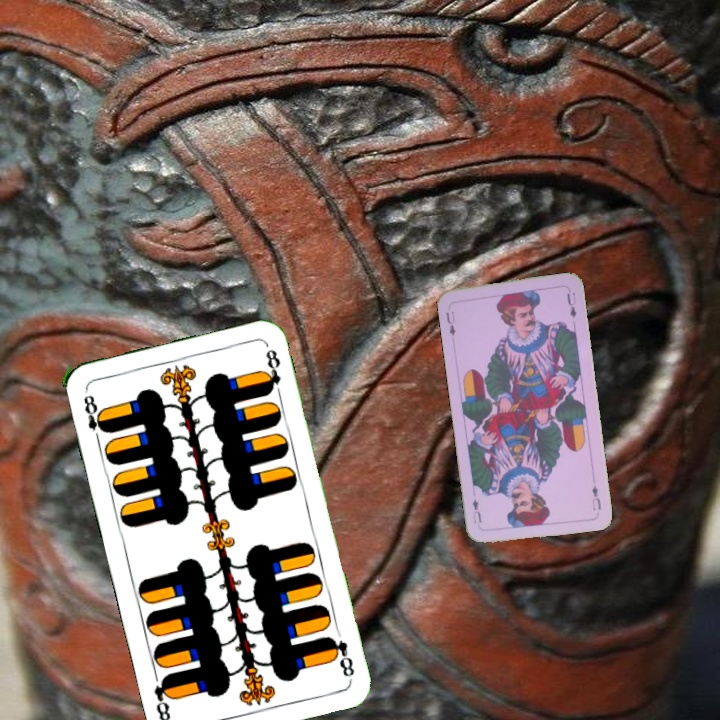E8: (79, 391, 110, 445), (324, 632, 357, 682)
EU: (442, 307, 458, 339), (588, 481, 604, 513)
